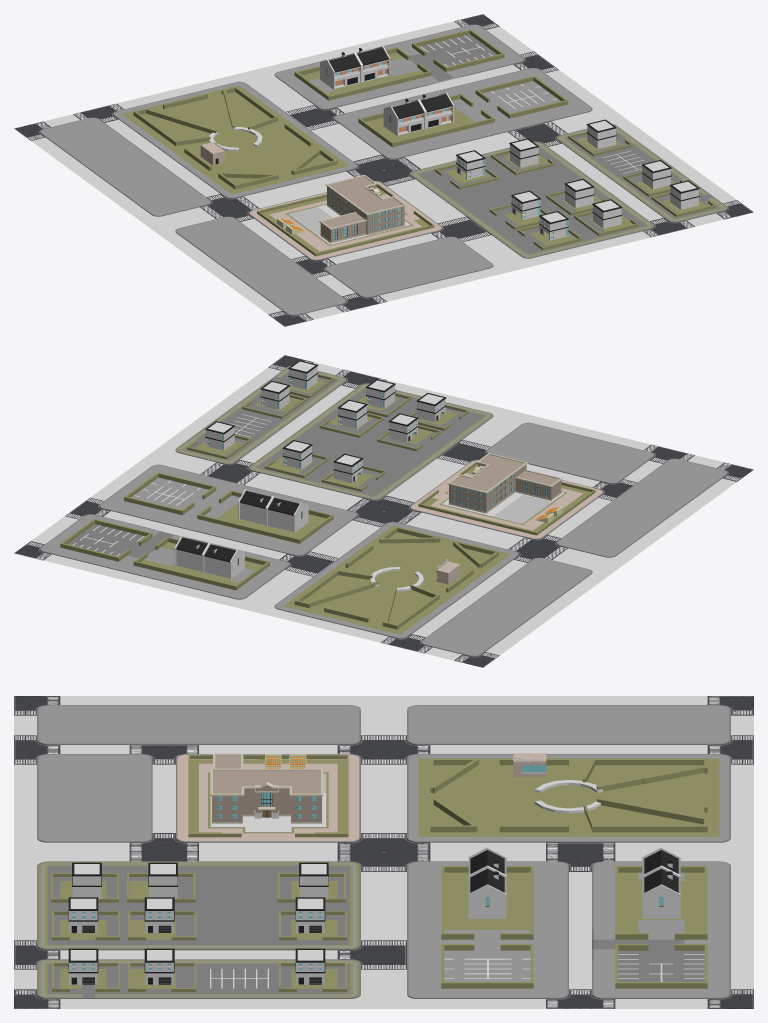
Rendered from map (3).fbx.
3 views of the same model, one above another, from view 1: azimuth 30°, elevation 25°; view 2: azimuth 150°, elevation 25°; view 3: azimuth 270°, elevation 25° (orthographic). The views are drawn at different scales.
Parts seen in each view (by area): view 1: Plane, Plane.023, Plane.006, Plane.012, Cube.001, Plane.001, Plane.014, Plane.009, Plane.011, Plane.010, Plane.008, Plane.007 (+3 smaller); view 2: Plane, Plane.023, Plane.006, Plane.012, Cube.001, Plane.001, Plane.014, Plane.009, Plane.011, Plane.010, Plane.008, Plane.005 (+3 smaller); view 3: Plane, Plane.023, Plane.006, Plane.014, Plane.009, Plane.001, Plane.011, Plane.012, Cube.001, Plane.008, Plane.010, Plane.007 (+4 smaller).
Part boxes in pixels (box(x1,y1,x2,y2)): Plane: box(40, 24, 727, 315); Plane.023: box(31, 21, 736, 319); Plane.006: box(456, 119, 699, 240); Plane.012: box(294, 29, 568, 147); Cube.001: box(320, 46, 453, 136); Plane.001: box(319, 175, 406, 243); Plane.014: box(133, 86, 337, 189); Plane.009: box(200, 105, 567, 241); Plane.011: box(133, 64, 634, 276); Plane.010: box(434, 131, 715, 250); Plane.008: box(73, 51, 694, 312); Plane.007: box(14, 14, 753, 326); Plane: box(40, 365, 727, 656); Plane.023: box(31, 362, 736, 660); Plane.006: box(205, 360, 446, 482); Plane.012: box(60, 472, 333, 590); Cube.001: box(174, 489, 308, 579); Plane.001: box(447, 453, 562, 513); Plane.014: box(294, 526, 498, 629); Plane.009: box(200, 440, 567, 576); Plane.011: box(133, 405, 634, 617); Plane.010: box(187, 373, 469, 491); Plane.008: box(65, 369, 694, 653); Plane.005: box(347, 495, 421, 527); Plane: box(37, 705, 730, 998); Plane.023: box(14, 696, 753, 1008); Plane.006: box(68, 862, 328, 984); Plane.014: box(430, 758, 707, 832); Plane.009: box(129, 735, 615, 969); Plane.001: box(210, 753, 323, 823); Plane.011: box(14, 696, 753, 1008); Plane.012: box(441, 866, 707, 988); Cube.001: box(468, 847, 680, 918); Plane.008: box(14, 735, 753, 1008); Plane.010: box(51, 873, 346, 991); Plane.007: box(14, 696, 753, 1008).
Bounding box in the file's own units: 20 × 1.05 × 20.
